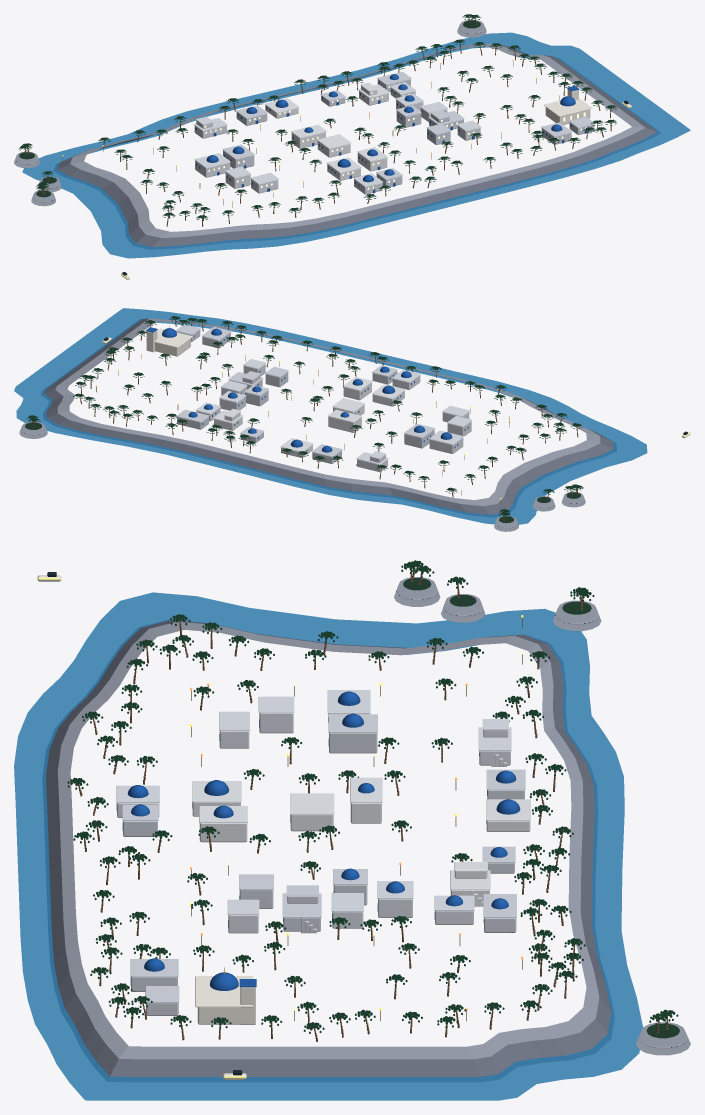
Rendered from by_maane.glb.
3 renders of one model, top to bottom at view 1: azimuth 30°, elevation 25°; view 2: azimuth 150°, elevation 25°; view 3: azimuth 270°, elevation 25°, orthographic. The views are drawn at different scales.
Visible parts, largest first — view 1: Lavt vand_net, Stranden_net, Byen_net, Palmer_net, Holme_net, Kapellet_net; view 2: Lavt vand_net, Stranden_net, Byen_net, Palmer_net, Holme_net, Kapellet_net, Holmtraer_net; view 3: Lavt vand_net, Stranden_net, Byen_net, Palmer_net, Holme_net, Kapellet_net, Holmtraer_net.
Part boxes in pixels (x1,y1,x2,y2): Lavt vand_net: (22,32,690,258); Stranden_net: (56,43,657,248); Byen_net: (194,71,594,194); Palmer_net: (98,39,616,226); Holme_net: (14,19,486,206); Kapellet_net: (543,85,592,124); Lavt vand_net: (14,308,647,524); Stranden_net: (43,318,615,515); Byen_net: (175,324,471,472); Palmer_net: (73,316,582,497); Holme_net: (19,421,585,531); Kapellet_net: (146,325,192,356); Holmtraer_net: (26,415,583,520); Lavt vand_net: (14,592,642,1100); Stranden_net: (43,620,612,1081); Byen_net: (116,690,530,1015); Palmer_net: (67,614,585,1041); Holme_net: (394,577,690,1055); Kapellet_net: (195,967,256,1024); Holmtraer_net: (401,560,678,1033).
Bounding box in the file's own units: 93.15 × 4.9 × 51.11.
